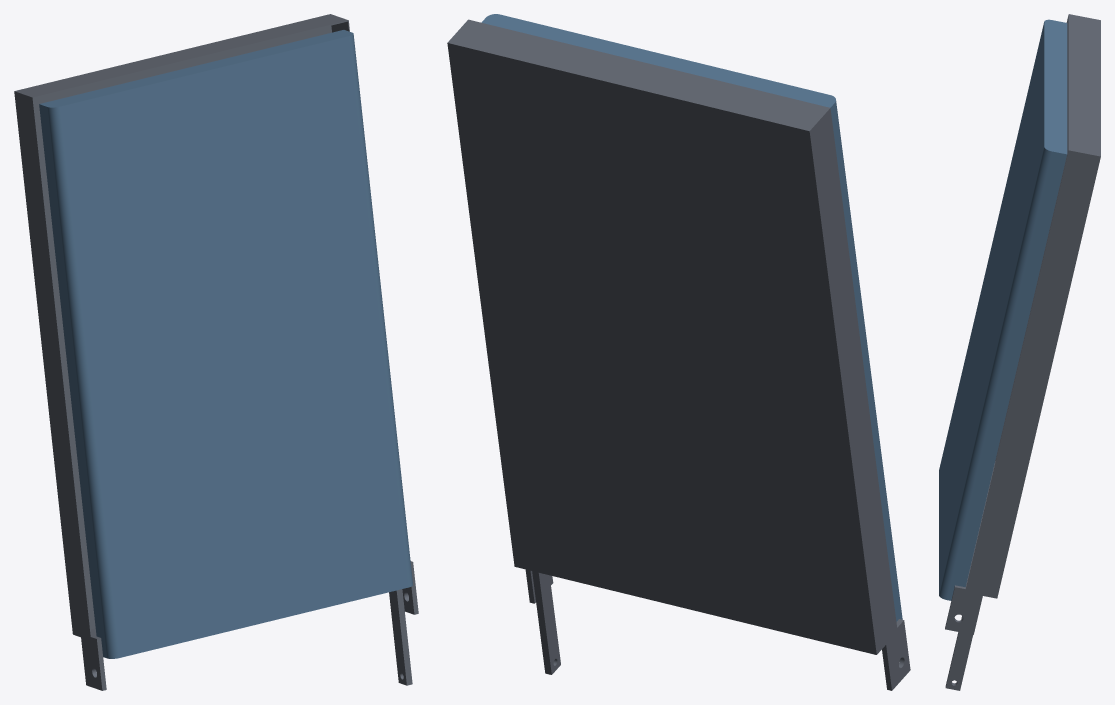
File: step_02.glb
3 views of the same model, side by side, from view 1: azimuth 30°, elevation 25°; view 2: azimuth 150°, elevation 25°; view 3: azimuth 270°, elevation 25° (orthographic). The views are drawn at different scales.
Visible parts, largest first — view 1: part__back cushion cover, part__back shell; view 2: part__back shell, part__back cushion cover; view 3: part__back cushion cover, part__back shell.
Boxes of the visible parts, bbox=[...] form: part__back cushion cover: bbox=[39, 30, 412, 658]; part__back shell: bbox=[14, 14, 418, 690]; part__back shell: bbox=[447, 19, 910, 690]; part__back cushion cover: bbox=[481, 14, 902, 621]; part__back cushion cover: bbox=[939, 19, 1067, 600]; part__back shell: bbox=[945, 14, 1100, 690].
Bounding box in the file's own units: 440 × 817 × 221.
